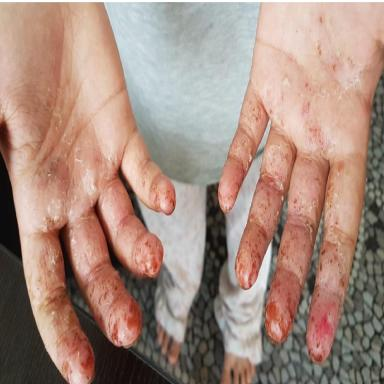eczema: (219, 56, 362, 362), (23, 93, 162, 383), (149, 179, 175, 215)
